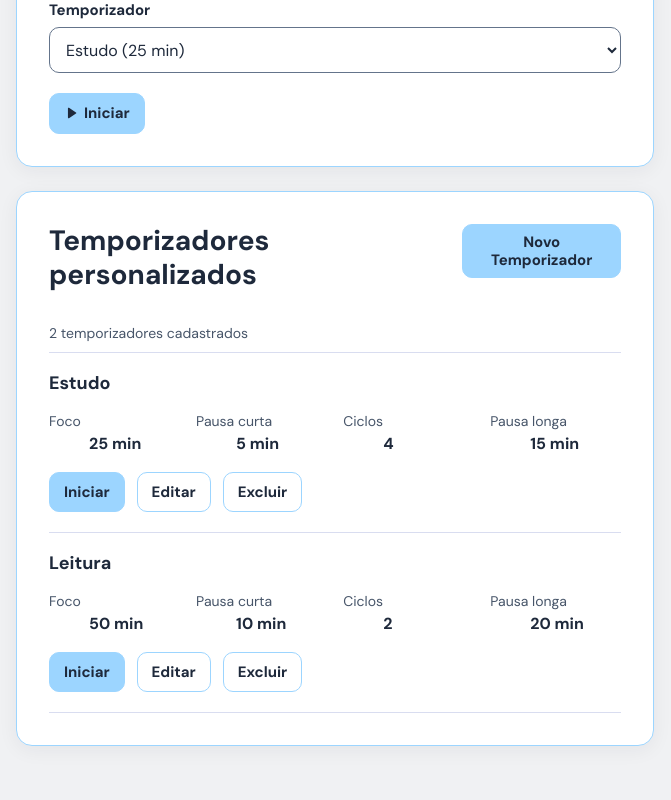
Test: App › inicia uma sessão com o preset e seu snapshot
(page scrolled)
Expected: the text "2 temporizadores cadastrados" is shown, [49,324,248,342]
Click the button "Iniciar" below "Estudo" at point(87, 492), box [49,472,125,512]
(page scrolled)
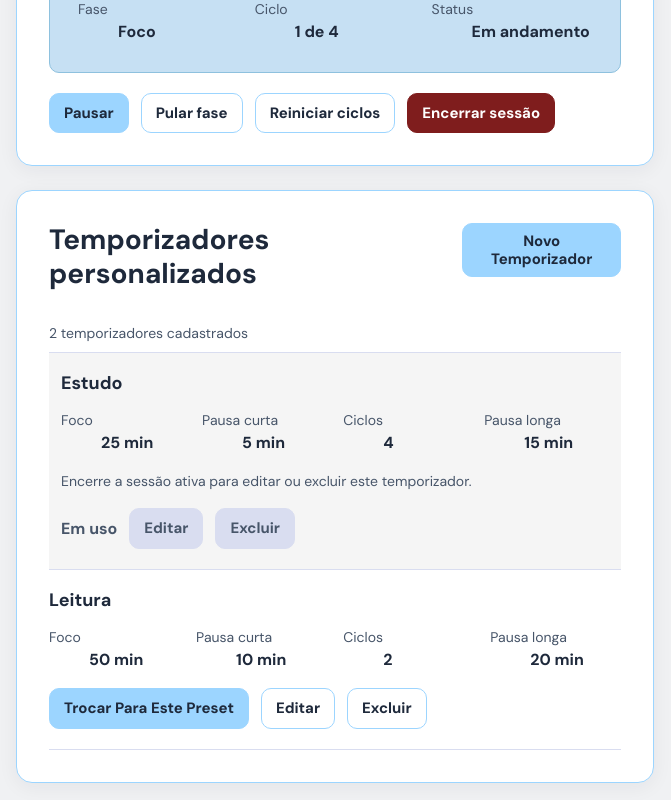
Expected: the text "Em uso" is shown, [61,518,117,538]
